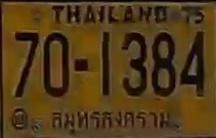0: (43, 32, 68, 96)
1: (101, 31, 109, 95)
3: (121, 32, 146, 95)
4: (180, 30, 204, 96)
7: (13, 31, 38, 96)
8: (151, 32, 175, 95)
SKM: (47, 105, 173, 130)
